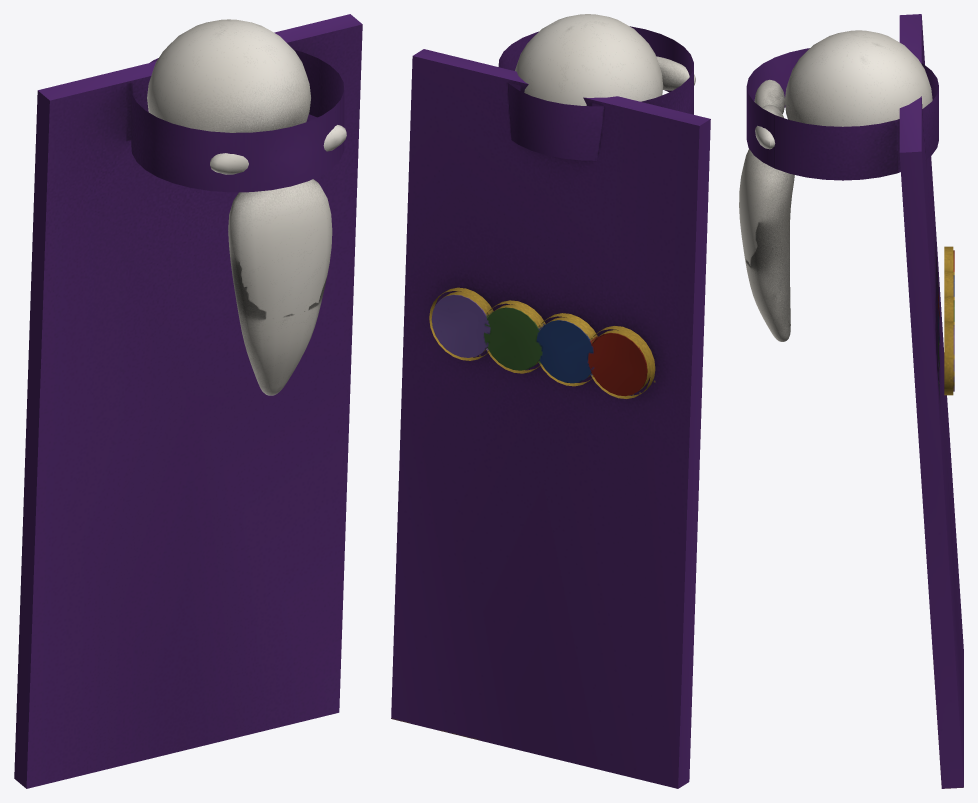
File: npc_mentor.glb
The picture shows the model from 3 angles, left to right: view 1: azimuth 30°, elevation 25°; view 2: azimuth 150°, elevation 25°; view 3: azimuth 270°, elevation 25°; orthographic projection. The views are drawn at different scales.
Visible parts, largest first — view 1: mentor_Spine2_peca, mentor_Head_peca; view 2: mentor_Spine2_peca, mentor_Head_peca; view 3: mentor_Spine2_peca, mentor_Head_peca.
Boxes of the visible parts, bbox=[...] form: mentor_Spine2_peca: bbox=[14, 14, 362, 788]; mentor_Head_peca: bbox=[147, 19, 346, 395]; mentor_Spine2_peca: bbox=[391, 26, 710, 788]; mentor_Head_peca: bbox=[515, 14, 695, 105]; mentor_Spine2_peca: bbox=[746, 14, 963, 788]; mentor_Head_peca: bbox=[739, 30, 932, 341].
Bounding box in the file's own units: 0.44 × 1.02 × 0.3037.
Materials: 2 (2 with a texture image).
